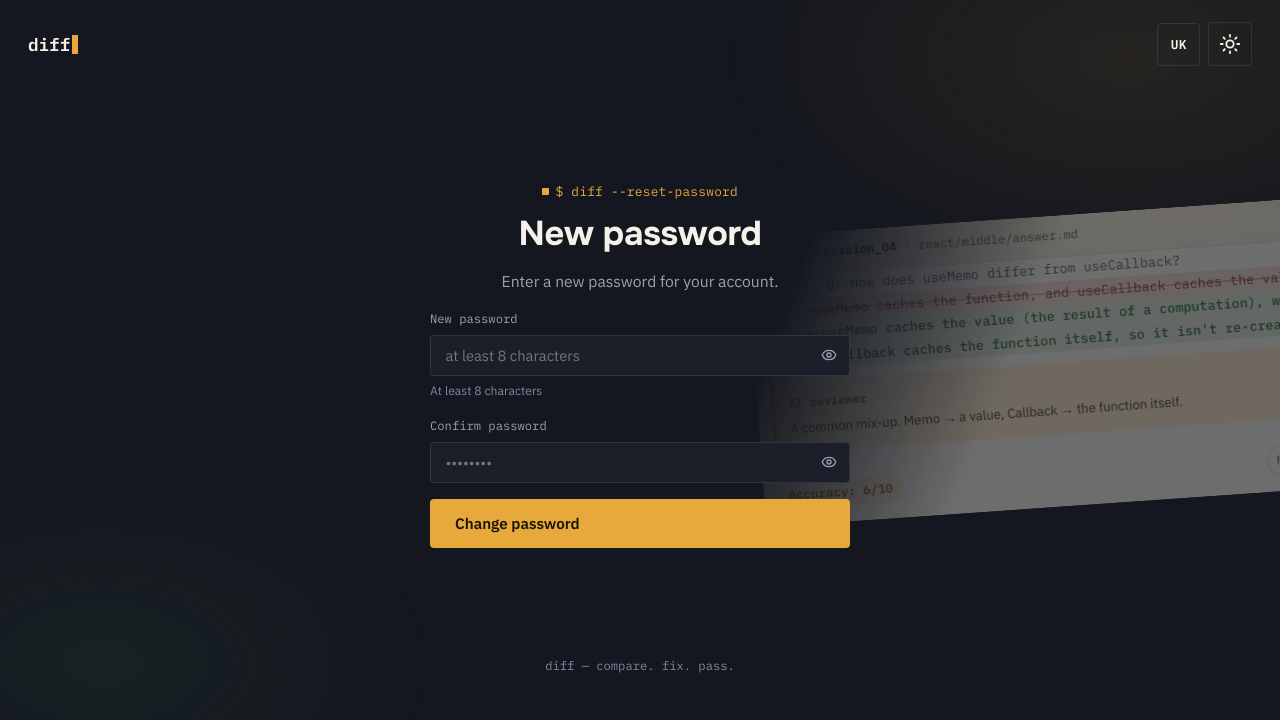
Test: ResetPasswordPage i18n › shows the expired-link screen with a way back to the request form on invalid_or_expired_token (AC-03)
In the password field labelled "New password": {"x": 640, "y": 355} [430,335,850,376], type "password1"
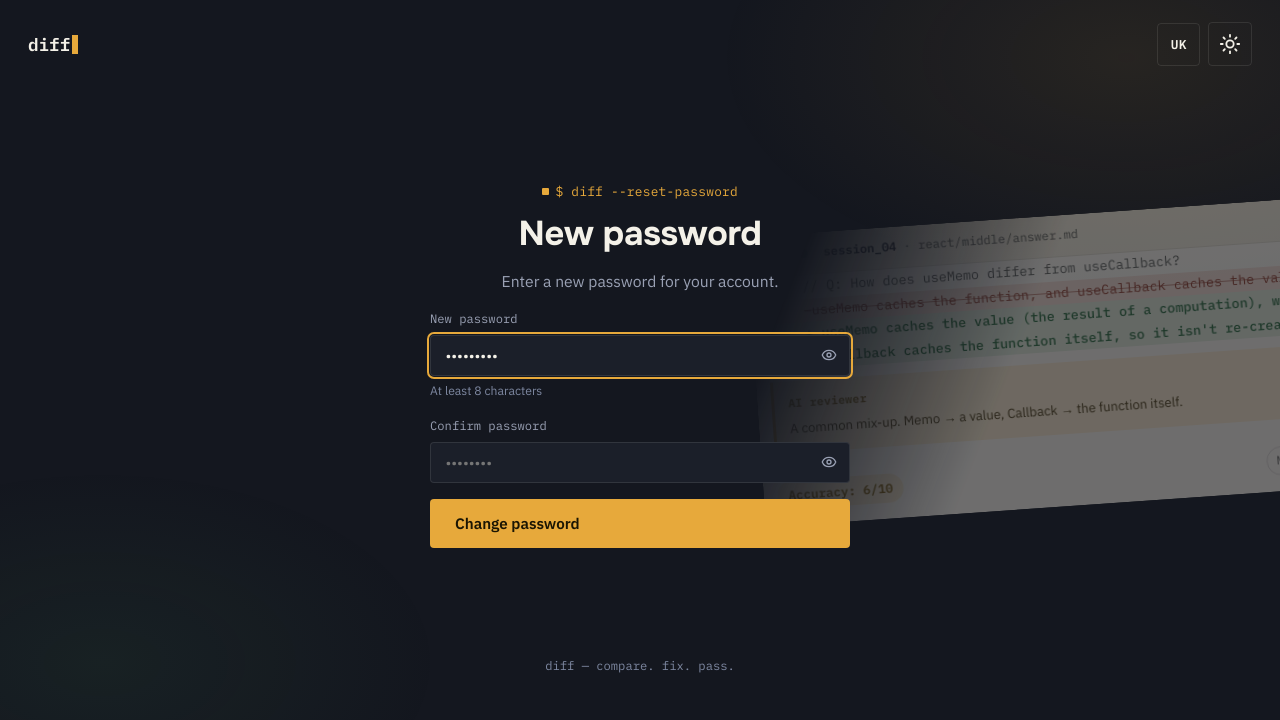
In the password field labelled "Confirm password": {"x": 640, "y": 462} [430,442,850,483], type "password1"
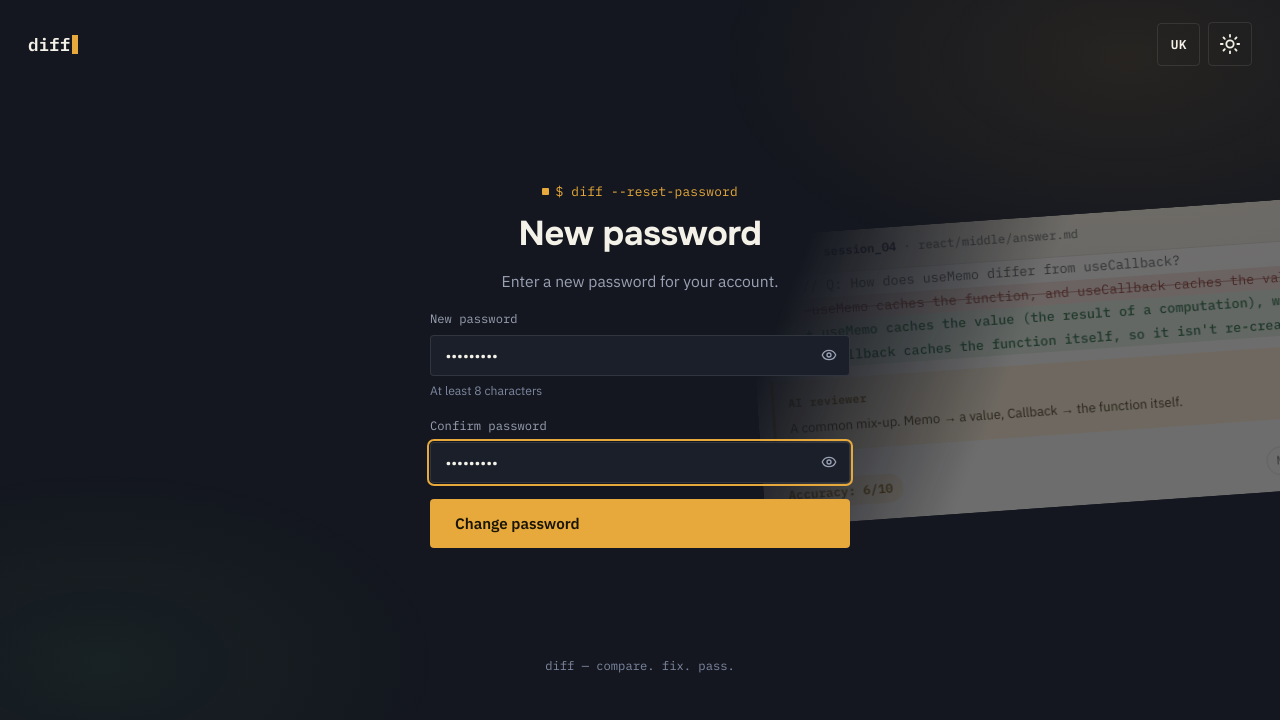
Click the button "Change password": {"x": 517, "y": 523} [430,499,850,548]
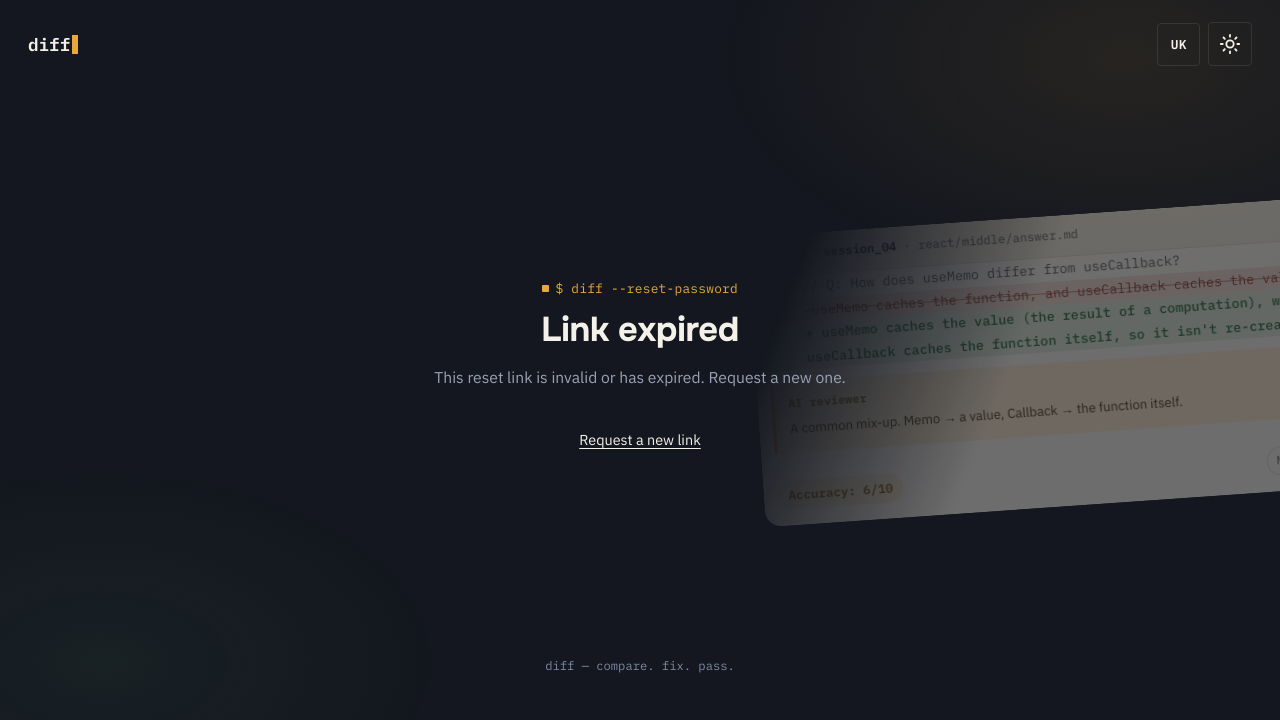
Check: the heading "Link expired" is shown, box [541,308,739,352]
Check: the text "This reset link is invalid or has expired. Request a new one." is shown, box [430,365,850,390]
Click the link "Request a new link": {"x": 640, "y": 440} [579,429,701,451]
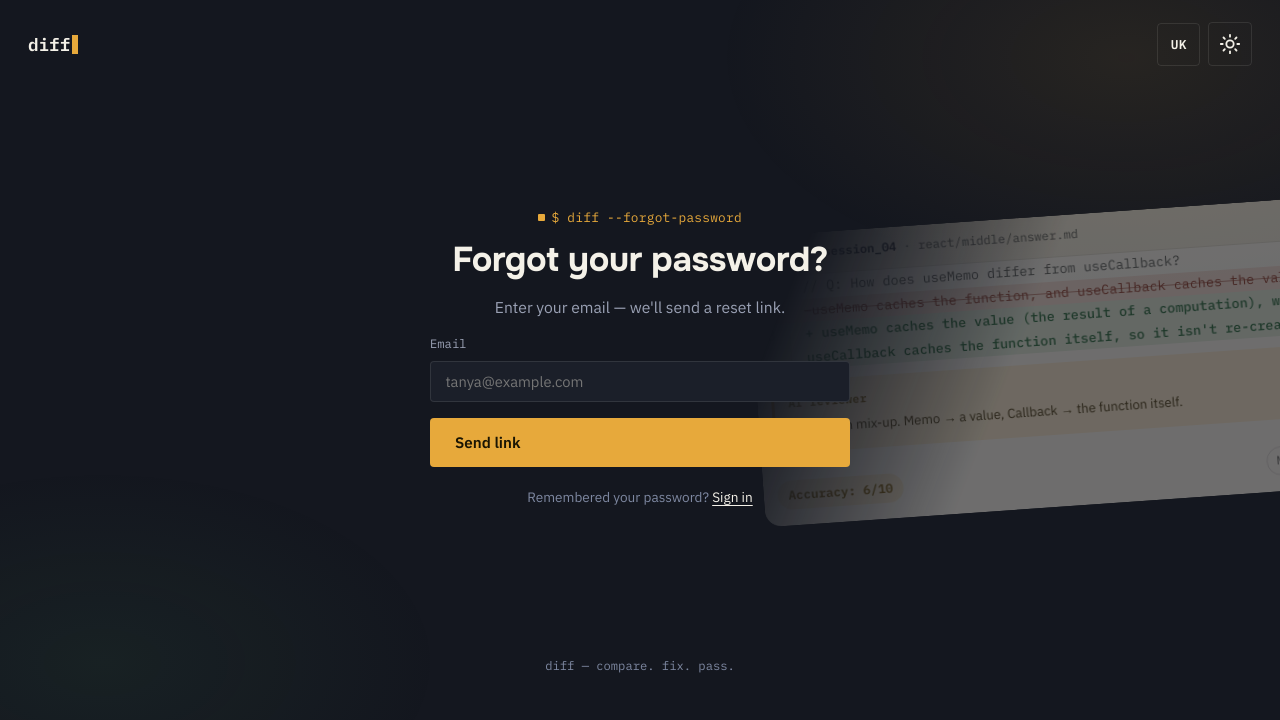
Check: the heading "Forgot your password?" is shown, box [430,240,850,280]
